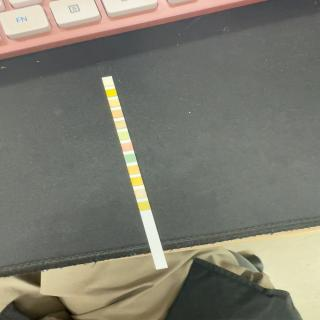mark: (135, 189, 146, 198), (131, 177, 142, 186), (138, 202, 150, 210), (128, 166, 140, 174), (124, 154, 136, 162), (121, 143, 132, 151), (118, 132, 129, 140), (112, 110, 123, 118), (109, 100, 120, 108), (103, 78, 114, 86), (115, 121, 125, 129), (106, 89, 116, 97)
